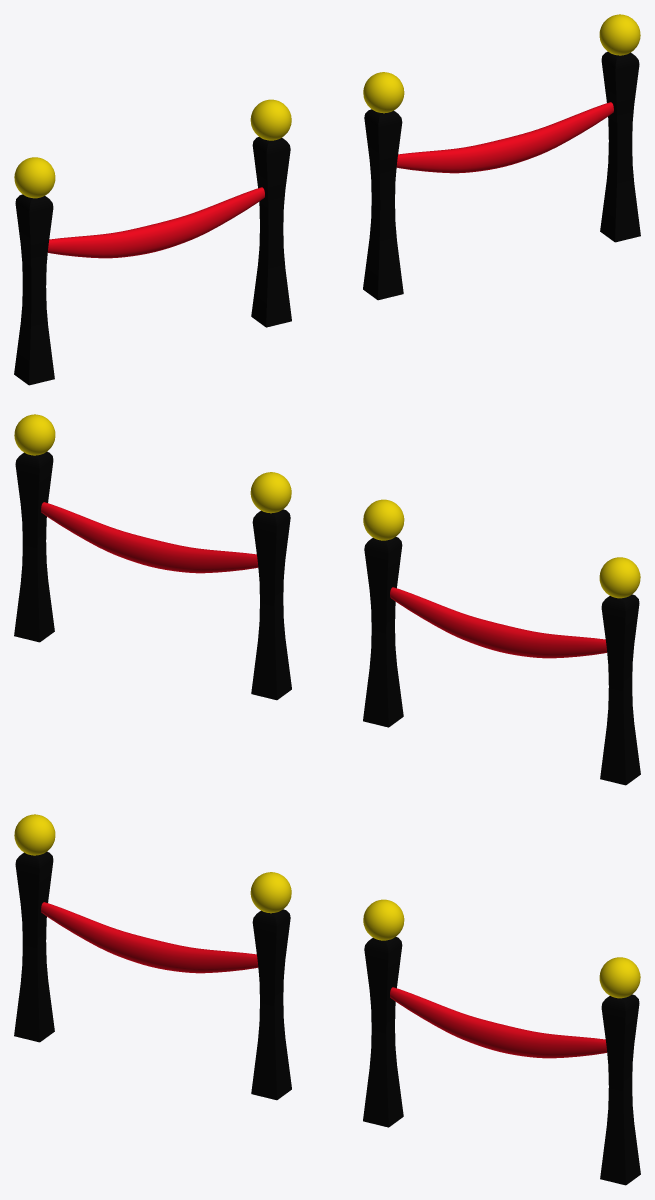
File: border.fbx
The picture shows the model from 3 angles, top to bottom: view 1: azimuth 30°, elevation 25°; view 2: azimuth 150°, elevation 25°; view 3: azimuth 330°, elevation 25°; orthographic projection.
Visible parts, largest first — view 1: Cube.060, Cube.062, Cube.061, Cube.063, Sphere.017, Sphere.016; view 2: Cube.060, Cube.062, Cube.061, Cube.063, Sphere.017, Sphere.016; view 3: Cube.062, Cube.060, Cube.063, Cube.061, Sphere.016, Sphere.017.
Part boxes in pixels (x1,y1,x2,y2): Cube.060: (363, 51, 640, 300); Cube.062: (14, 137, 291, 385); Cube.061: (396, 102, 613, 173); Cube.063: (48, 187, 264, 258); Sphere.017: (14, 99, 291, 198); Sphere.016: (363, 14, 640, 113); Cube.060: (14, 451, 291, 700); Cube.062: (363, 537, 640, 785); Cube.061: (41, 502, 258, 573); Cube.063: (390, 587, 606, 658); Sphere.017: (363, 499, 640, 598); Sphere.016: (14, 414, 291, 513); Cube.062: (14, 851, 291, 1100); Cube.060: (363, 937, 640, 1185); Cube.063: (41, 902, 258, 973); Cube.061: (390, 987, 606, 1058); Sphere.016: (363, 899, 640, 998); Sphere.017: (14, 814, 291, 913).
Bounding box in the file's own units: 133 × 44.57 × 7.64.
